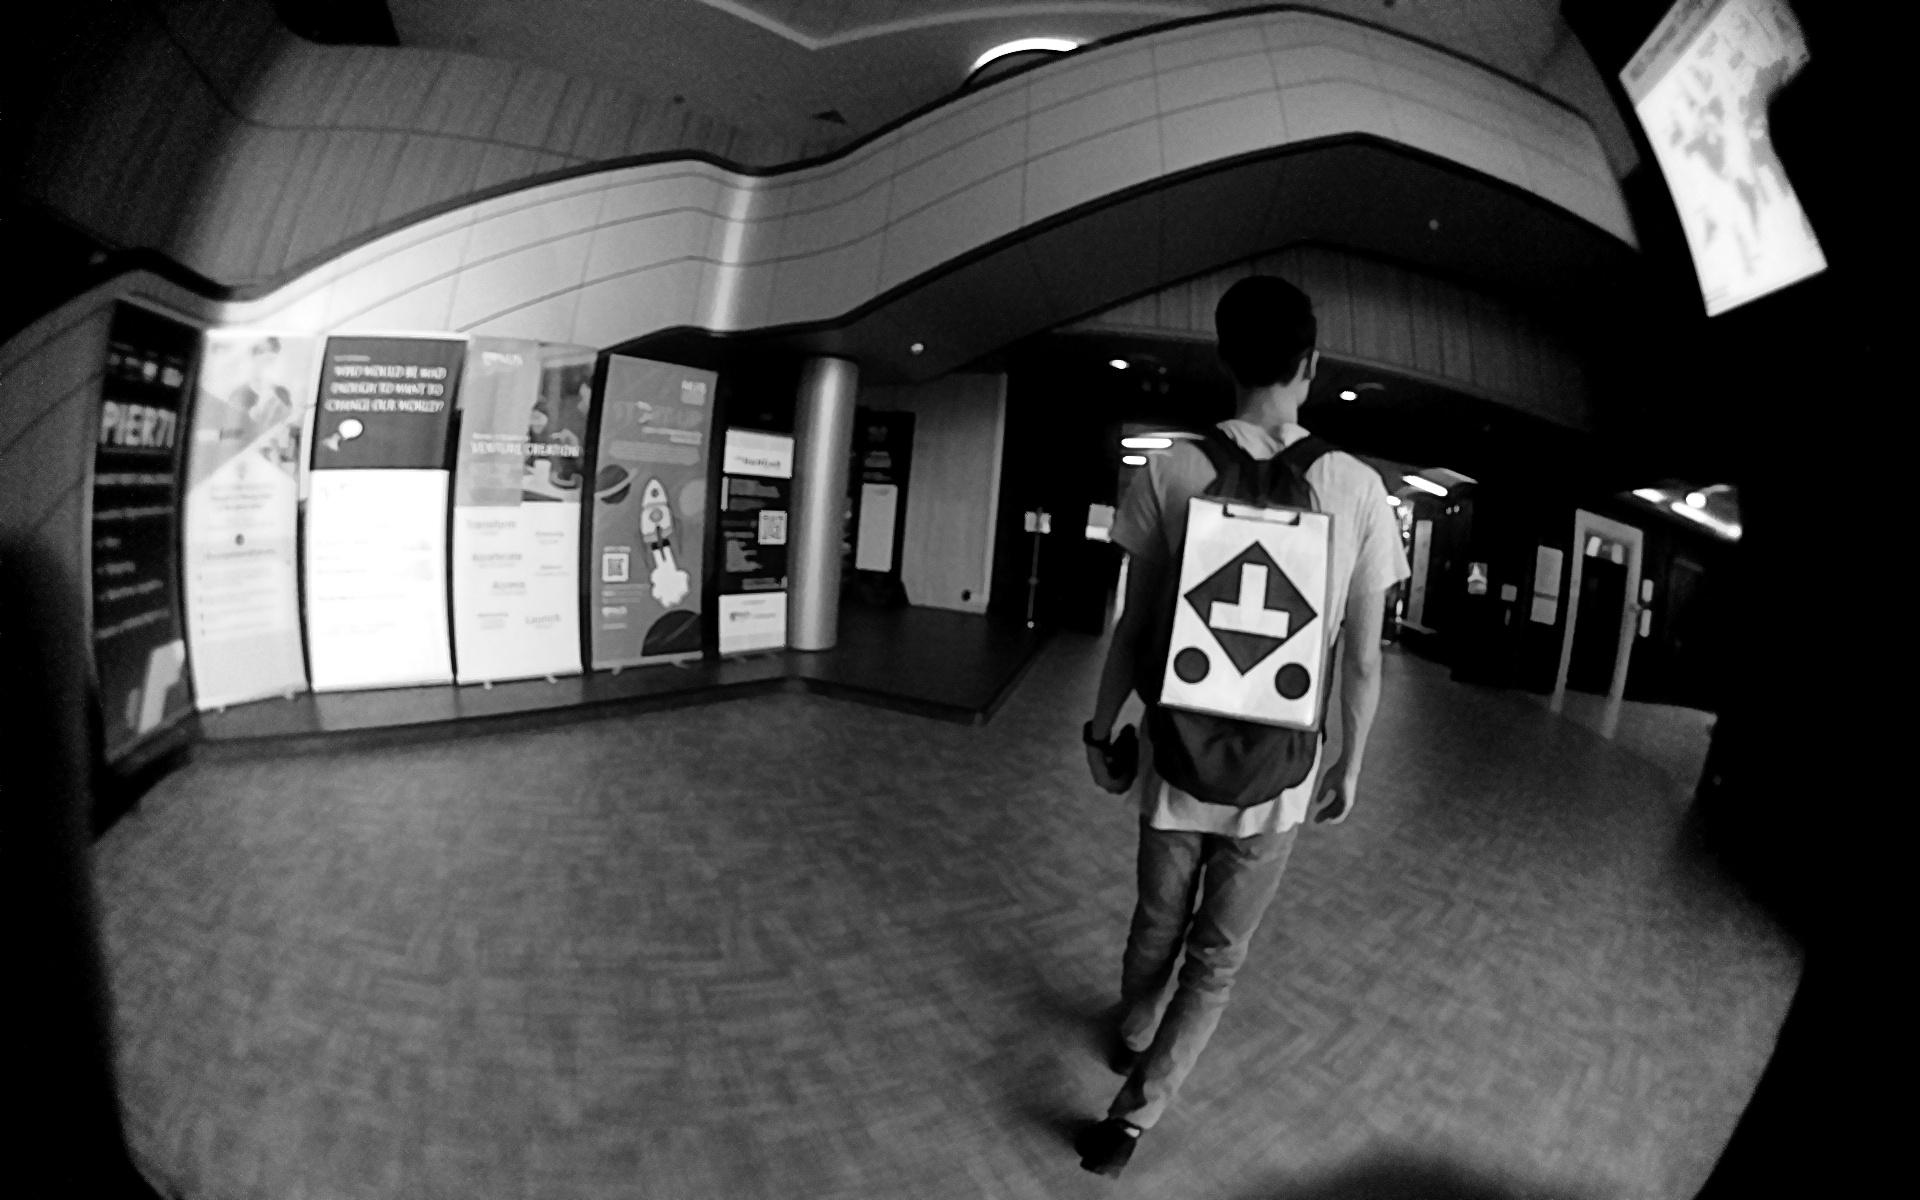continue_forward: (1163, 523, 1333, 711)
